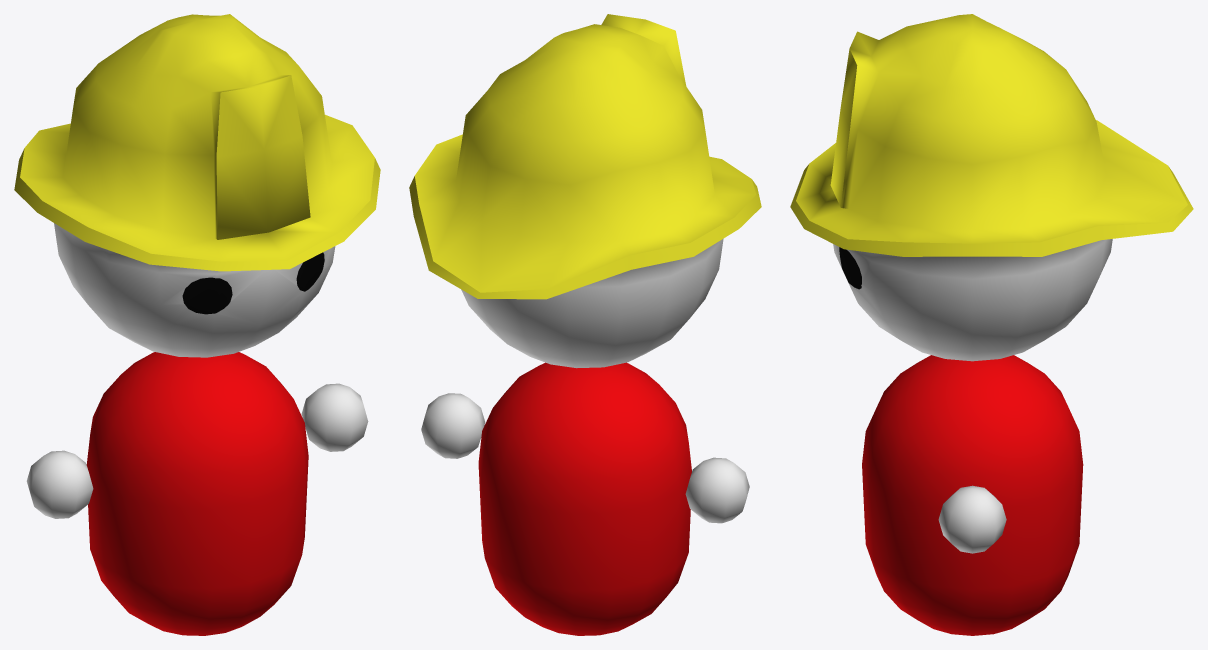
The model's file is Player.fbx.
3 renders of one model, left to right at view 1: azimuth 30°, elevation 25°; view 2: azimuth 150°, elevation 25°; view 3: azimuth 270°, elevation 25°, orthographic. The views are drawn at different scales.
Visible parts, largest first — view 1: Character; view 2: Character; view 3: Character.
Part boxes in pixels (x1,y1,x2,y2): Character: (14,14,380,635); Character: (409,14,761,635); Character: (790,14,1193,635).
Size of the model in its own units: 2.44 by 4.22 by 2.58.
